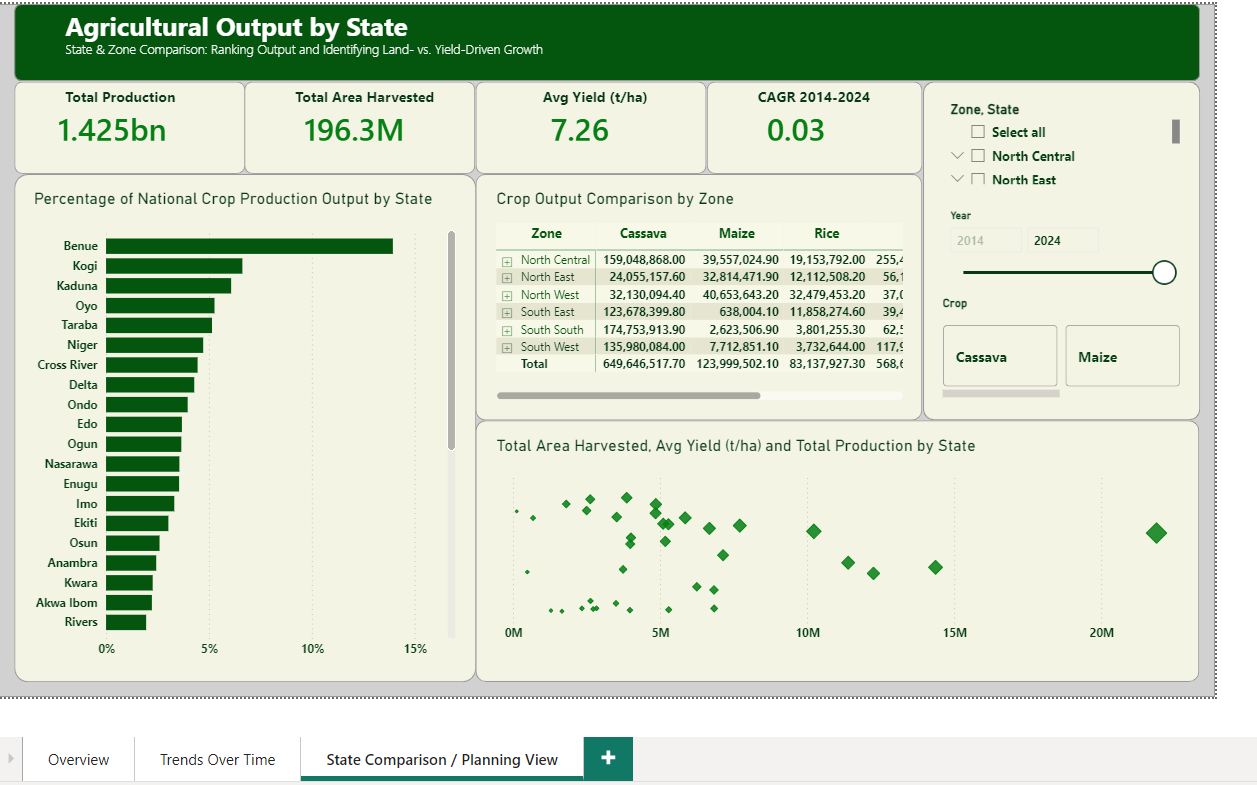

The page's visual inventory and layout, read from the dashboard file:
{"tool":"powerbi","page":{"name":"State Comparison / Planning View","canvas":[1280,720],"ordinal":2},"visuals":[{"type":"shape","box":[0,0,1280,720],"z":0},{"type":"shape","box":[32,0,1232,80],"z":1000},{"type":"shape","box":[32,80,240,96],"z":2000},{"type":"shape","box":[272,80,240,96],"z":3000},{"type":"shape","box":[512,80,240,96],"z":4000},{"type":"shape","box":[752,80,224,96],"z":5000},{"type":"shape","box":[976,80,288,352],"z":6000},{"type":"shape","box":[32,176,480,528],"z":7000},{"type":"shape","box":[512,176,464,256],"z":8000},{"type":"shape","box":[512,432,752,272],"z":9000},{"type":"advancedSlicerVisual","fields":{"Values":["Fact_Crop Output.Crop"]},"box":[992,304,256,112],"z":10000},{"type":"slicer","fields":{"Values":["Dim_Year.Year"]},"box":[992,208,256,96],"z":11000},{"type":"cardVisual","fields":{"Data":["Fact_Crop Output.Total Production"]},"box":[48,96,208,64],"z":12000},{"type":"cardVisual","fields":{"Data":["Fact_Crop Output.Total Area Harvested"]},"box":[304,96,176,64],"z":13000},{"type":"cardVisual","fields":{"Data":["Fact_Crop Output.Avg Yield (t/ha)"]},"box":[560,96,176,64],"z":14000},{"type":"cardVisual","fields":{"Data":["Dim_Year.CAGR 2014-2024"]},"box":[784,96,176,64],"z":15000},{"type":"scatterChart","fields":{"X":["Fact_Crop Output.Total Area Harvested"],"Y":["Fact_Crop Output.Avg Yield (t/ha)"],"Size":["Fact_Crop Output.Total Production"],"Category":["Dim_State.State"]},"box":[528,448,720,224],"z":16000},{"type":"pivotTable","title":"Crop Output Comparison by Zone","fields":{"Rows":["Dim_State.Zone","Dim_State.State"],"Columns":["Fact_Crop Output.Crop"],"Values":["Fact_Crop Output.Total Production"]},"box":[528,192,432,224],"z":17000},{"type":"barChart","title":"Percentage of National Crop  Production Output by State","fields":{"Category":["Dim_State.State"],"Y":["Dim_State.% of National Production"]},"box":[48,192,448,496],"z":18000},{"type":"textbox","box":[80,80,176,32],"z":19000},{"type":"textbox","box":[320,80,176,32],"z":20000},{"type":"textbox","box":[576,80,176,32],"z":21000},{"type":"textbox","box":[800,80,176,32],"z":22000},{"type":"slicer","fields":{"Values":["Dim_State.Zone","Dim_State.State"]},"box":[992,96,256,96],"z":23000},{"type":"textbox","box":[80,0,656,48],"z":24000},{"type":"textbox","box":[80,32,896,32],"z":25000}]}

Visuals, with their boxes on the page's 1280x720 design canvas (x1, y1, x2, y2). These are canvas units, not pixel positions in the 1257x785 screenshot, which may show the page scaled, cropped or inside an application window:
shape: <region>0, 0, 1280, 720</region>
shape: <region>32, 0, 1264, 80</region>
shape: <region>32, 80, 272, 176</region>
shape: <region>272, 80, 512, 176</region>
shape: <region>512, 80, 752, 176</region>
shape: <region>752, 80, 976, 176</region>
shape: <region>976, 80, 1264, 432</region>
shape: <region>32, 176, 512, 704</region>
shape: <region>512, 176, 976, 432</region>
shape: <region>512, 432, 1264, 704</region>
advancedSlicerVisual - Fact_Crop Output.Crop: <region>992, 304, 1248, 416</region>
slicer - Dim_Year.Year: <region>992, 208, 1248, 304</region>
cardVisual - Fact_Crop Output.Total Production: <region>48, 96, 256, 160</region>
cardVisual - Fact_Crop Output.Total Area Harvested: <region>304, 96, 480, 160</region>
cardVisual - Fact_Crop Output.Avg Yield (t/ha): <region>560, 96, 736, 160</region>
cardVisual - Dim_Year.CAGR 2014-2024: <region>784, 96, 960, 160</region>
scatterChart - Fact_Crop Output.Total Area Harvested x Fact_Crop Output.Avg Yield (t/ha): <region>528, 448, 1248, 672</region>
"Crop Output Comparison by Zone" pivotTable: <region>528, 192, 960, 416</region>
"Percentage of National Crop  Production Output by State" barChart: <region>48, 192, 496, 688</region>
textbox: <region>80, 80, 256, 112</region>
textbox: <region>320, 80, 496, 112</region>
textbox: <region>576, 80, 752, 112</region>
textbox: <region>800, 80, 976, 112</region>
slicer - Dim_State.Zone x Dim_State.State: <region>992, 96, 1248, 192</region>
textbox: <region>80, 0, 736, 48</region>
textbox: <region>80, 32, 976, 64</region>
